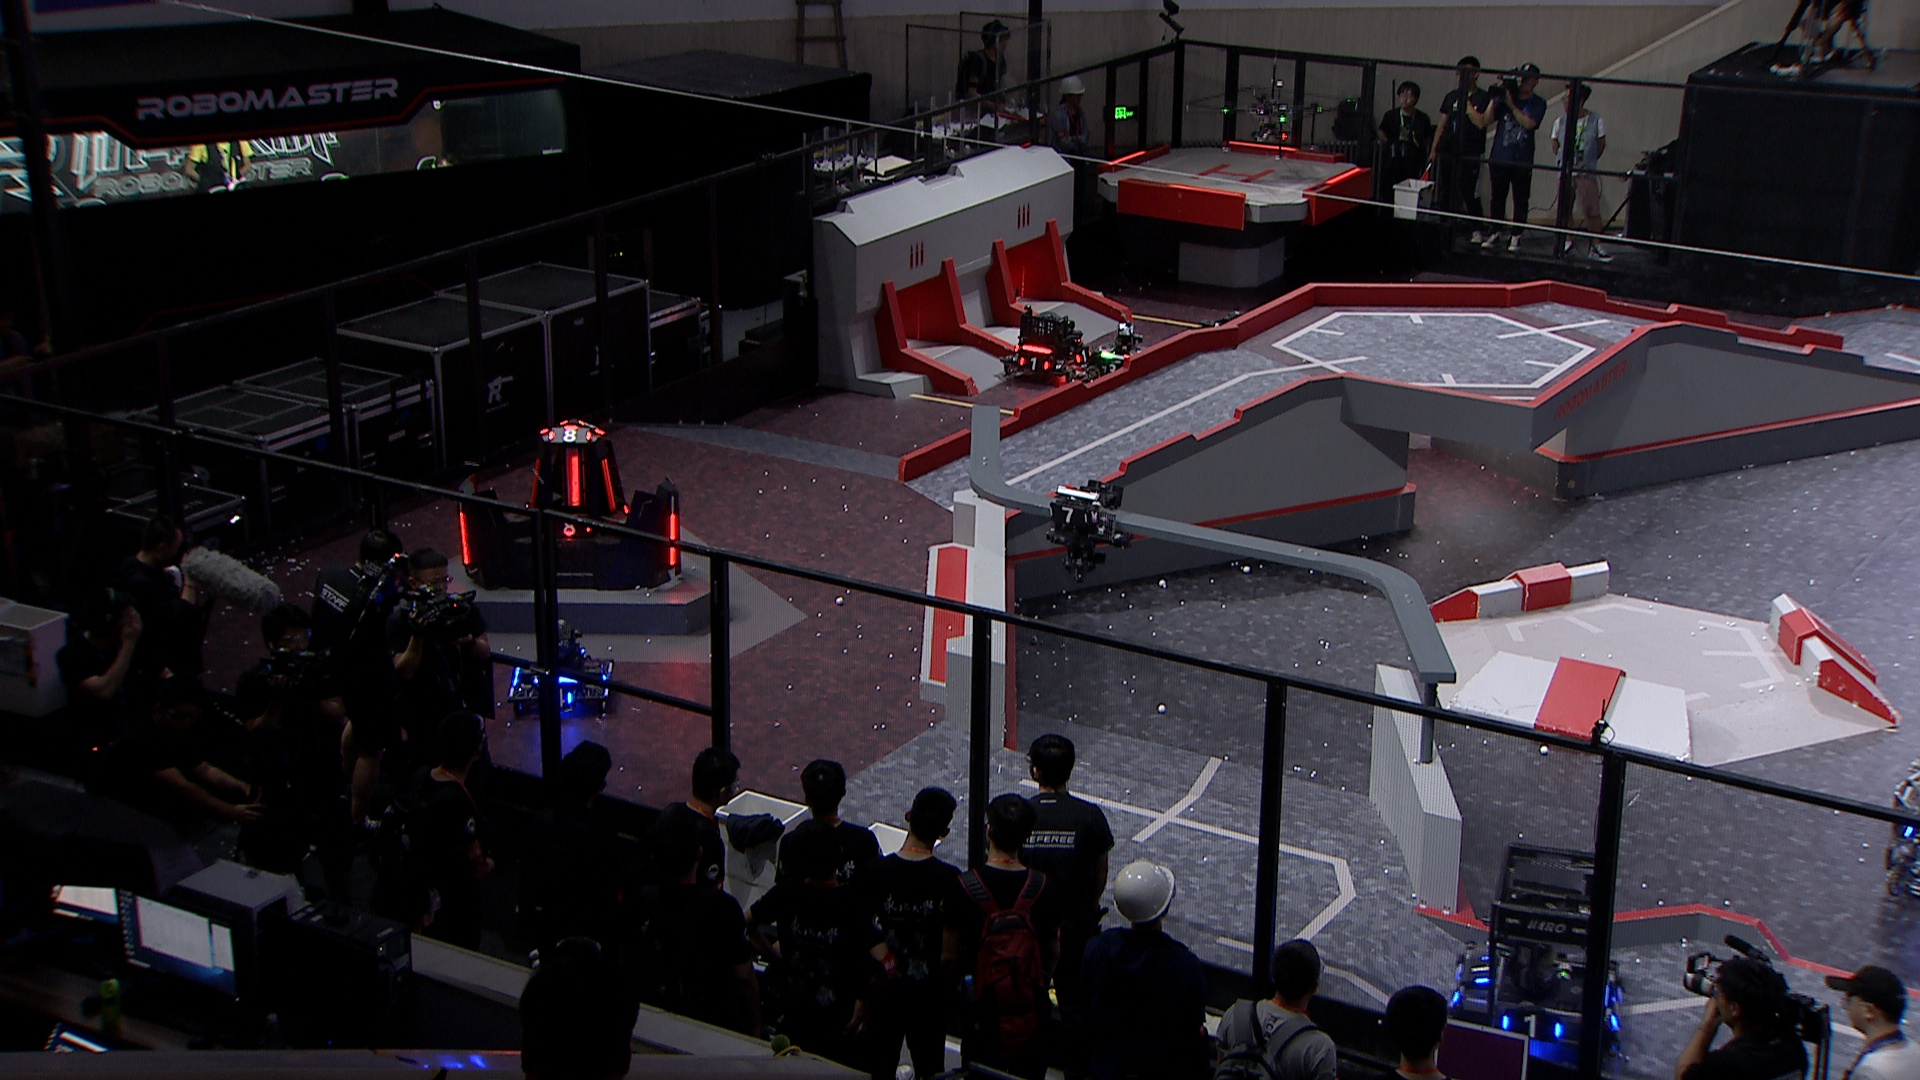armor: (1501, 1010, 1567, 1044), (603, 456, 621, 512), (564, 454, 583, 508), (458, 509, 475, 567), (1048, 504, 1092, 526), (666, 516, 684, 567), (529, 455, 545, 509), (1609, 986, 1626, 1035), (1466, 955, 1493, 986), (547, 425, 595, 442), (1017, 352, 1054, 373), (555, 520, 593, 538), (1073, 347, 1095, 365), (1102, 361, 1122, 375)
base: (454, 419, 686, 591)
car: (1444, 840, 1629, 1065), (505, 617, 618, 717), (1000, 305, 1097, 384), (1884, 756, 1920, 910), (1087, 323, 1166, 389)
watcher: (1044, 476, 1133, 579)
